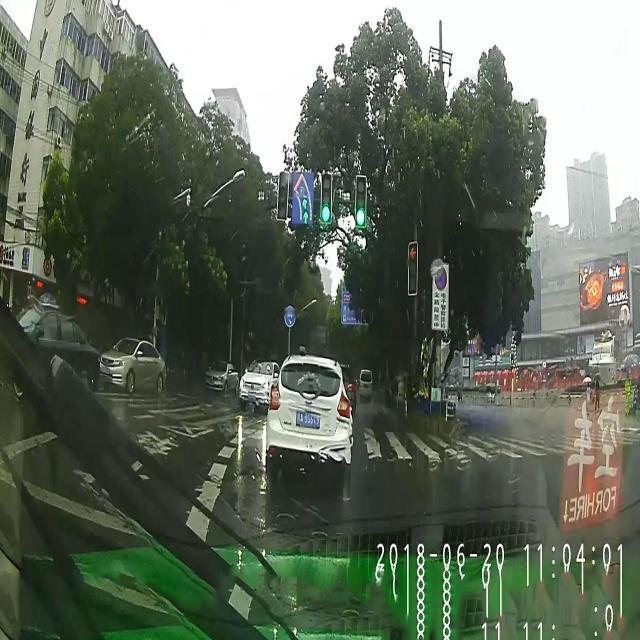car: (266, 351, 352, 482), (0, 305, 101, 394), (100, 334, 167, 394), (238, 358, 279, 411), (203, 361, 243, 394), (360, 372, 372, 402)
